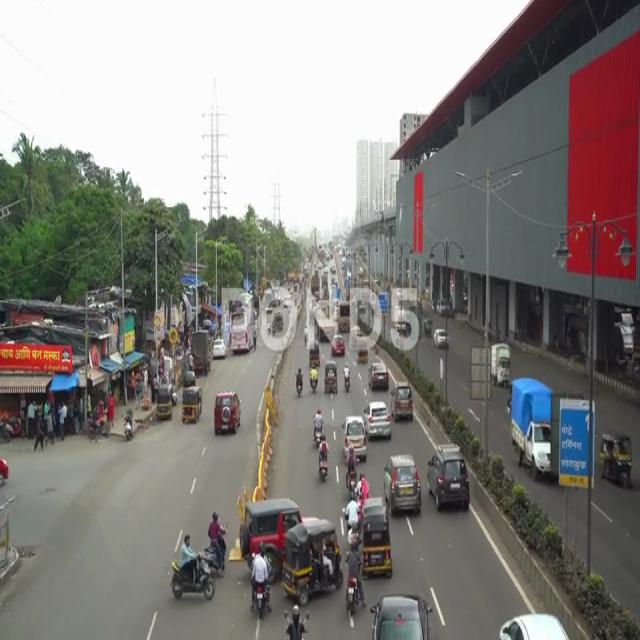car: (426, 442, 470, 510), (384, 455, 422, 512), (214, 388, 244, 438), (391, 379, 416, 422), (364, 401, 391, 438), (368, 361, 388, 391), (434, 328, 450, 352)
motorbike: (165, 533, 212, 608), (248, 546, 272, 624), (346, 542, 362, 613), (342, 448, 360, 498), (318, 435, 332, 480)
rikshaw: (287, 529, 343, 601), (363, 499, 393, 581), (600, 429, 632, 498), (182, 388, 204, 426)
truck: (509, 381, 550, 481), (492, 342, 509, 390)
